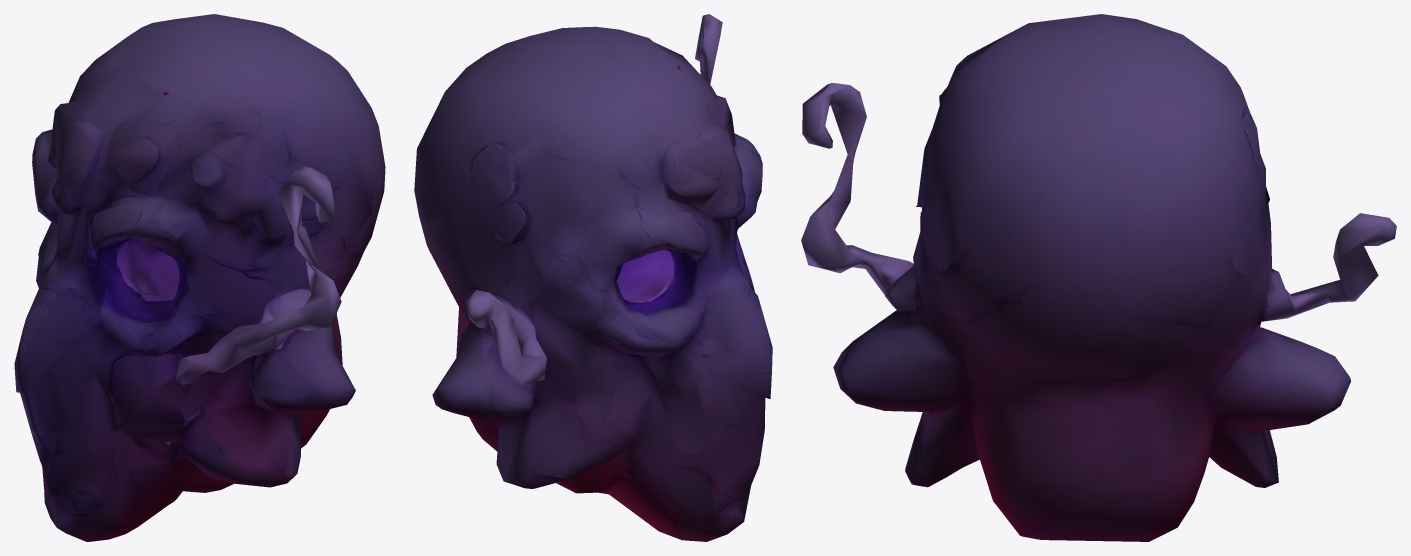
File: icon-step.glb
3 renders of one model, left to right at view 1: azimuth 30°, elevation 25°; view 2: azimuth 150°, elevation 25°; view 3: azimuth 270°, elevation 25°, orthographic. The views are drawn at different scales.
Visible parts, largest first — view 1: tripo_node_e055ed47-14ac-4824-89da-7c92d15a749d; view 2: tripo_node_e055ed47-14ac-4824-89da-7c92d15a749d; view 3: tripo_node_e055ed47-14ac-4824-89da-7c92d15a749d.
Boxes of the visible parts, x1,y1,x2,y2 form: tripo_node_e055ed47-14ac-4824-89da-7c92d15a749d: [14, 14, 385, 541]; tripo_node_e055ed47-14ac-4824-89da-7c92d15a749d: [414, 14, 772, 541]; tripo_node_e055ed47-14ac-4824-89da-7c92d15a749d: [801, 14, 1396, 541].
Size of the model in its own units: 0.7591 by 1 by 0.9832.
1 material, 1 textured.
